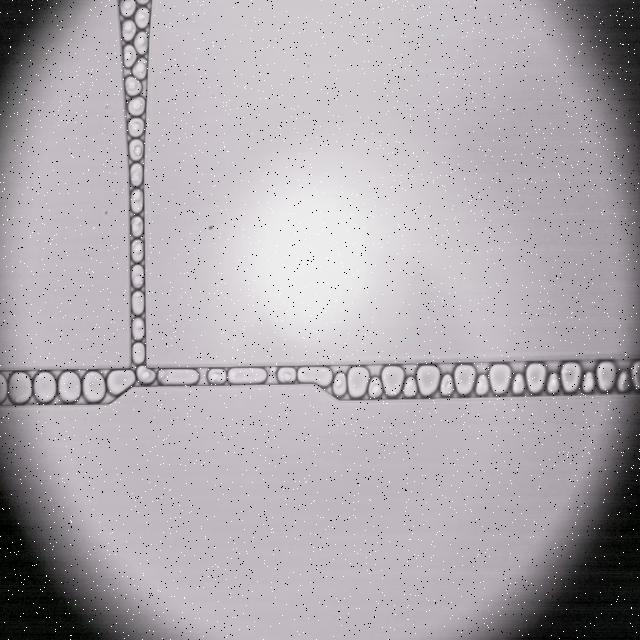L: (128, 97, 145, 116), (137, 366, 156, 383), (134, 31, 147, 54), (131, 265, 144, 288), (131, 291, 144, 314), (333, 372, 346, 395), (122, 20, 136, 41), (128, 118, 144, 136), (129, 139, 142, 161), (440, 374, 453, 396), (126, 76, 141, 95), (208, 369, 227, 384), (277, 367, 296, 382), (135, 8, 149, 28), (130, 163, 142, 186), (131, 189, 143, 212), (133, 58, 146, 79), (132, 318, 145, 339), (132, 343, 145, 364), (476, 374, 489, 395), (617, 371, 630, 392), (124, 45, 136, 67), (131, 240, 143, 262), (369, 377, 382, 397), (404, 377, 417, 397), (582, 372, 595, 392), (131, 216, 143, 237), (512, 373, 524, 394), (120, 0, 135, 16), (548, 373, 559, 394)
S: (8, 372, 31, 404), (107, 369, 135, 395), (417, 365, 440, 395), (58, 371, 80, 402), (382, 365, 404, 396), (454, 365, 476, 395), (489, 364, 511, 394), (298, 367, 332, 386), (159, 369, 199, 385), (34, 372, 56, 401), (83, 372, 105, 401), (348, 367, 369, 397), (560, 362, 581, 392), (526, 363, 546, 393), (228, 368, 267, 383), (596, 362, 616, 391), (631, 361, 640, 389), (0, 374, 7, 404)
